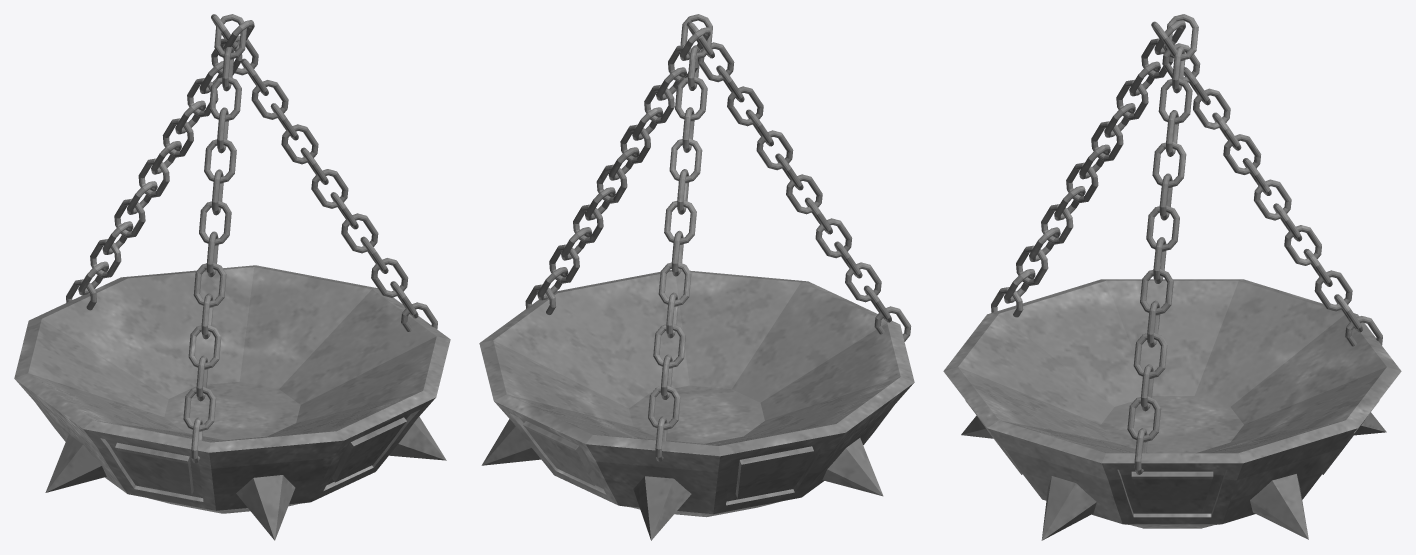
File: LampTorch.fbx
The picture shows the model from 3 angles, left to right: view 1: azimuth 30°, elevation 25°; view 2: azimuth 150°, elevation 25°; view 3: azimuth 270°, elevation 25°; orthographic projection. The views are drawn at different scales.
Parts seen in each view (by area): view 1: UpTorch; view 2: UpTorch; view 3: UpTorch.
Part boxes in pixels (x1,y1,x2,y2): UpTorch: (14,14,450,540); UpTorch: (479,14,914,540); UpTorch: (943,14,1401,540).
Bounding box in the file's own units: 1.51 × 1.82 × 1.55.
1 material, 1 textured.
